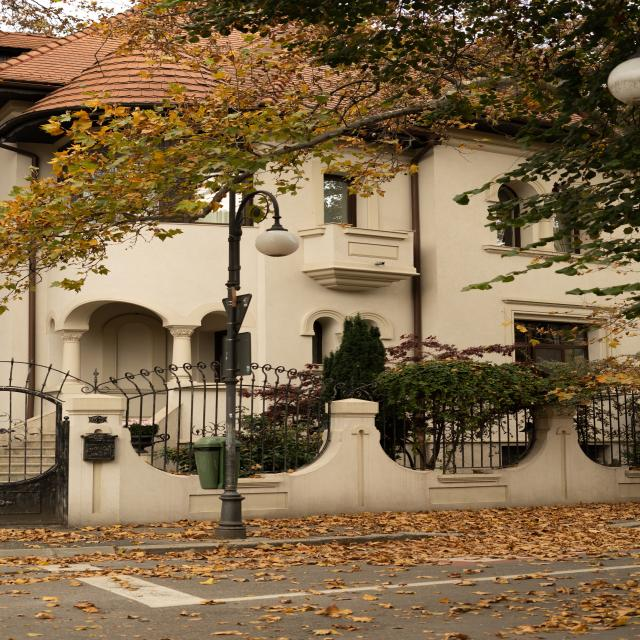Street Light: (211, 190, 301, 536), (608, 54, 640, 122)
